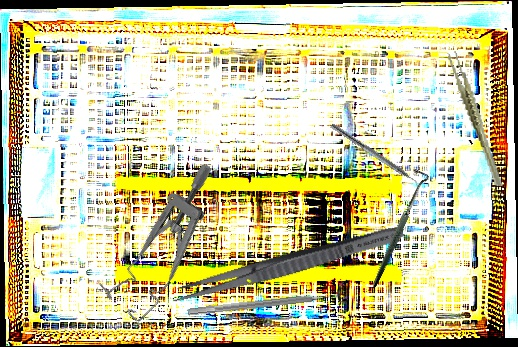Chopper: (326, 123, 425, 193)
Dressing Forceps: (169, 220, 407, 309)
Fixation Ring: (186, 280, 349, 324)
Hook Surgical: (331, 165, 463, 289)
Speculum: (86, 160, 253, 327)
Tissue Forceps: (446, 47, 504, 191)
